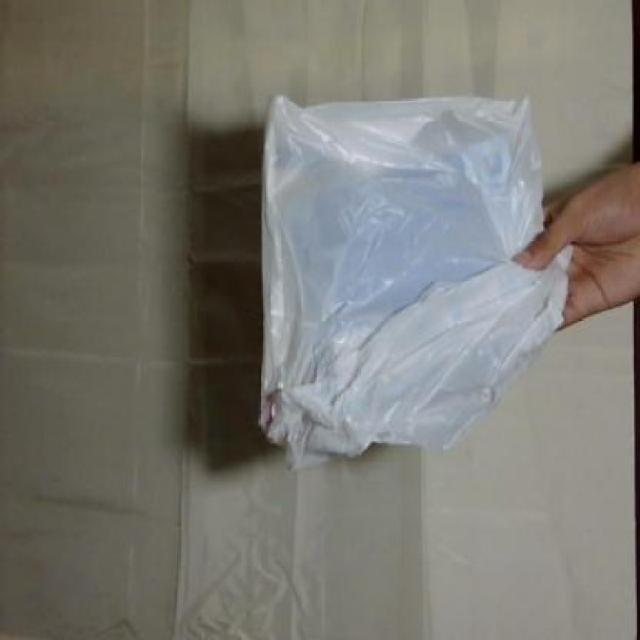Plastic: (256, 92, 571, 472)
